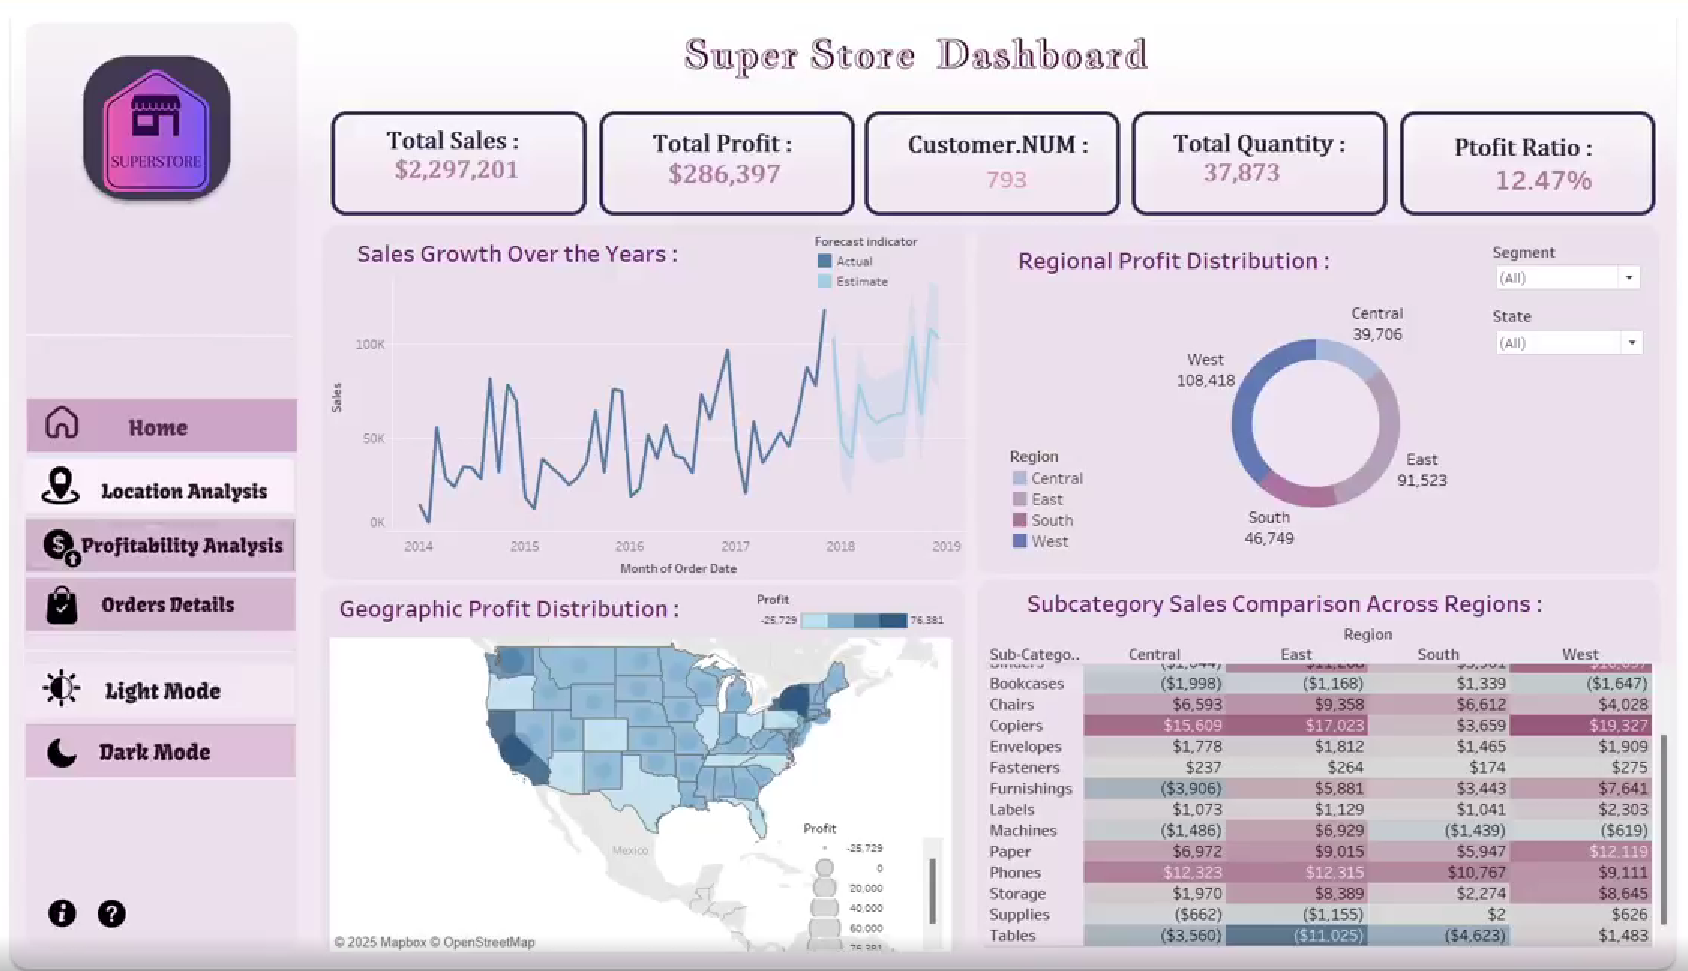

The page's visual inventory and layout, read from the dashboard file:
{"tool":"tableau","page":{"name":"Dashboard 4","canvas":[1331,747],"ordinal":4},"visuals":[{"type":"worksheet","title":"Help Button","mark":"Shape","box":[1250,10,62,56]},{"type":"text","box":[12.8,12,1300.5,61]},{"type":"dashboard-object","box":[1166,18,83,57]},{"type":"worksheet","title":"Info Button","mark":"Shape","box":[1250,55,63,36]},{"type":"worksheet","title":"Cards","mark":"Text","cols":["Customer Name","Calculation_1775825677362147331","Calculation_1775825677362147331","Calculation_1775825677362147331","Calculation_1775825677362147331"],"box":[11,91,1304,87]},{"type":"worksheet","title":"12.lineViz","mark":"Line","rows":["Order ID (Returns)","Order ID (Returns)"],"cols":["Sub-Category"],"box":[19,183,618,268]},{"type":"worksheet","title":"ProfitMap","mark":"Automatic","box":[638,186,638,279]},{"type":"worksheet","title":"Sales forecast report","mark":"Automatic","rows":["Sales"],"cols":["Order Date"],"box":[20,445,616,303]},{"type":"legend","title":"Sales forecast report","param":"[federated.0ffl41n0sf1a36115xkrm1p4c34k].[none:Forecast Indicator:nk]","box":[298,462,305,56]},{"type":"worksheet","title":"DonutChart","mark":"Pie","cols":["Calculation_1775825677366169605","Calculation_1775825677366169605"],"box":[638,469,637,273]}]}

Visuals, with their boxes in screenshot pixels (x1, y1, x2, y2), scaled from the page's 1331x747 canvas onto the 1688x971 screenshot:
"Help Button" worksheet (Shape marks): detection(1585, 13, 1664, 86)
text: detection(16, 16, 1666, 95)
dashboard-object: detection(1479, 23, 1584, 97)
"Info Button" worksheet (Shape marks): detection(1585, 71, 1665, 118)
"Cards" worksheet (Text marks): detection(14, 118, 1668, 231)
"12.lineViz" worksheet (Line marks): detection(24, 238, 808, 586)
"ProfitMap" worksheet: detection(809, 242, 1618, 604)
"Sales forecast report" worksheet: detection(25, 578, 807, 970)
"Sales forecast report" legend: detection(378, 601, 765, 673)
"DonutChart" worksheet (Pie marks): detection(809, 610, 1617, 965)
